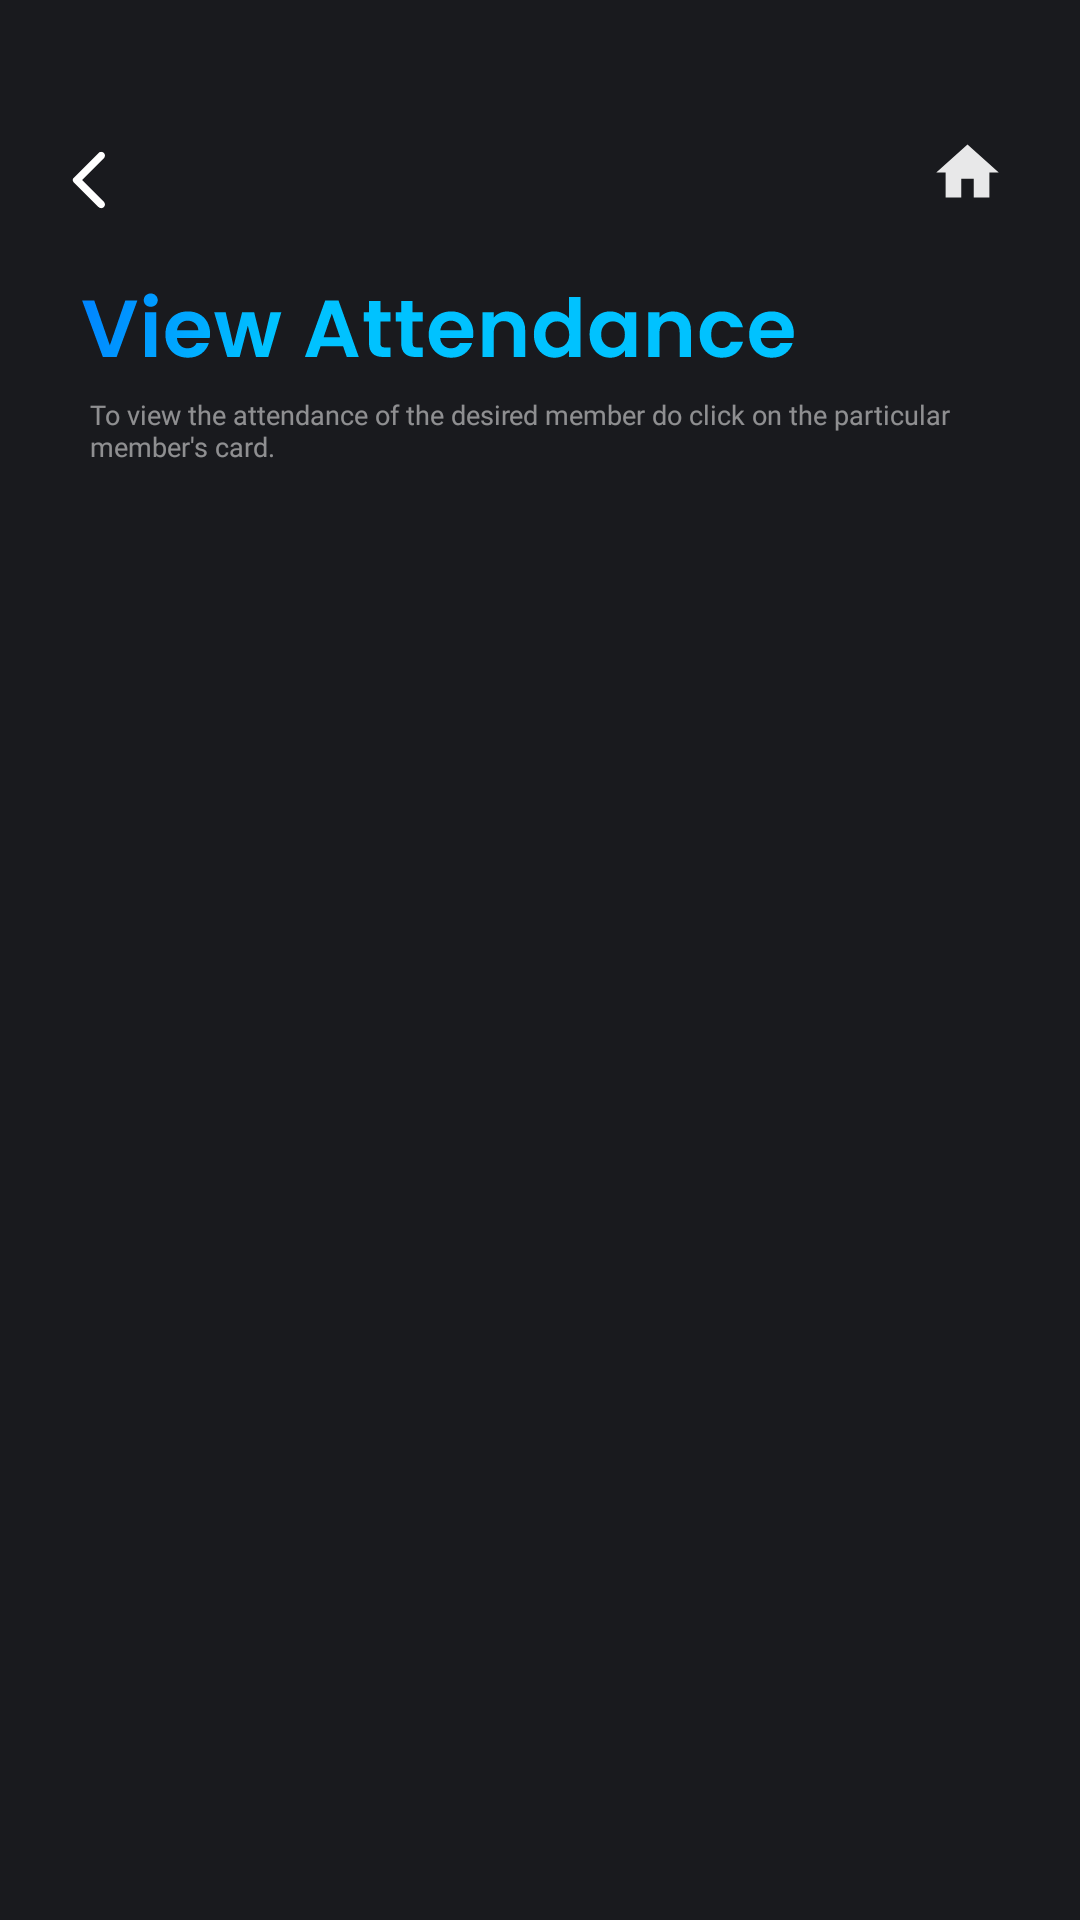

Locate icon controls on the screen. Image size 1080px×1920px, boxes as rect(x1, y1, x2, y2).
back: rect(72, 152, 105, 209)
home: rect(936, 144, 999, 198)
